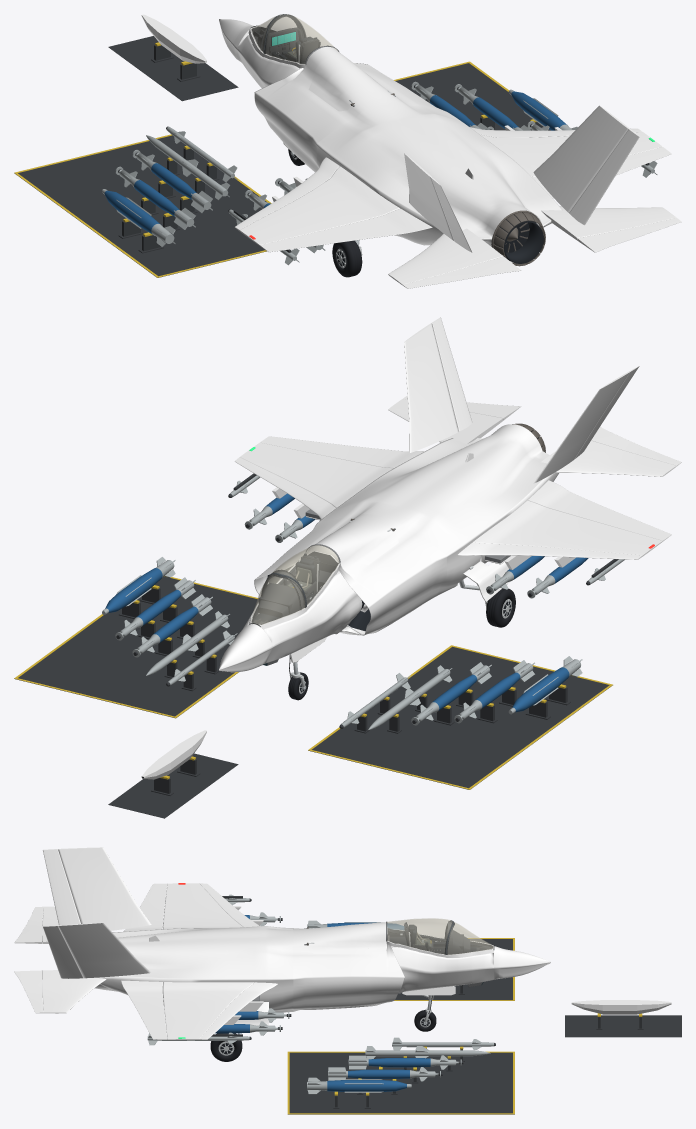
File: f35b-hangar-x.glb
3 renders of one model, top to bottom at view 1: azimuth 30°, elevation 25°; view 2: azimuth 150°, elevation 25°; view 3: azimuth 270°, elevation 25°, orthographic. The views are drawn at different scales.
Parts seen in each view (by area): view 1: Web_Loadout | hangar display stores and stands, Web_Static_Web_Aircraft_F35B_fuselage, Web_Static_Web_Aircraft_F35B_wingL, Web_Airframe | R fixed fin, Web_Static_Web_Rig_L_tail, Web_Static_Web_Rig_R_tail, Web_Static_Web_Rig_Canopy, Web_Airframe | Wing L trailing flaperon, Web_Static_Web_Rig_LiftFan_Door, Web_Static_Web_Rig_Vector_Nozzle, Web_Static_Web_Aircraft_F35B_wingR, Web_Airframe | R rudder (+8 smaller); view 2: Web_Loadout | hangar display stores and stands, Web_Static_Web_Aircraft_F35B_fuselage, Web_Static_Web_Aircraft_F35B_wingL, Web_Airframe | R fixed fin, Web_Static_Web_Aircraft_F35B_wingR, Web_Static_Web_Rig_Canopy, Web_Static_Web_Rig_L_tail, Web_Airframe | Wing L trailing flaperon, Web_Airframe | L fixed fin, Web_Airframe | Wing R trailing flaperon, Web_Loadout | wing stores L, Web_Static_Web_Rig_LiftFan_Door (+8 smaller); view 3: Web_Static_Web_Aircraft_F35B_fuselage, Web_Loadout | hangar display stores and stands, Web_Airframe | L fixed fin, Web_Static_Web_Aircraft_F35B_wingR, Web_Static_Web_Rig_Canopy, Web_Airframe | R fixed fin, Web_Static_Web_Aircraft_F35B_wingL, Web_Static_Web_Rig_R_tail, Web_Static_Web_Rig_LiftFan_Door, Web_Airframe | Wing R trailing flaperon, Web_Loadout | wing stores R, Web_Airframe | L rudder (+8 smaller).
Part boxes in pixels (bbox=[...]): Web_Loadout | hangar display stores and stands: bbox=[14, 14, 577, 277]; Web_Static_Web_Aircraft_F35B_fuselage: bbox=[219, 19, 562, 262]; Web_Static_Web_Aircraft_F35B_wingL: bbox=[239, 166, 399, 245]; Web_Airframe | R fixed fin: bbox=[533, 105, 629, 212]; Web_Static_Web_Rig_L_tail: bbox=[388, 228, 521, 288]; Web_Static_Web_Rig_R_tail: bbox=[541, 206, 681, 252]; Web_Static_Web_Rig_Canopy: bbox=[248, 14, 339, 68]; Web_Airframe | Wing L trailing flaperon: bbox=[260, 208, 432, 252]; Web_Static_Web_Rig_LiftFan_Door: bbox=[308, 56, 397, 111]; Web_Static_Web_Rig_Vector_Nozzle: bbox=[491, 210, 545, 266]; Web_Static_Web_Aircraft_F35B_wingR: bbox=[480, 132, 662, 176]; Web_Airframe | R rudder: bbox=[569, 129, 639, 225]; Web_Loadout | hangar display stores and stands: bbox=[14, 557, 612, 818]; Web_Static_Web_Aircraft_F35B_fuselage: bbox=[219, 424, 558, 672]; Web_Static_Web_Aircraft_F35B_wingL: bbox=[473, 500, 662, 563]; Web_Airframe | R fixed fin: bbox=[404, 323, 459, 453]; Web_Static_Web_Aircraft_F35B_wingR: bbox=[240, 442, 393, 519]; Web_Static_Web_Rig_Canopy: bbox=[249, 544, 340, 629]; Web_Static_Web_Rig_L_tail: bbox=[541, 427, 681, 476]; Web_Airframe | Wing L trailing flaperon: bbox=[528, 480, 671, 541]; Web_Airframe | L fixed fin: bbox=[533, 371, 629, 483]; Web_Airframe | Wing R trailing flaperon: bbox=[260, 436, 424, 467]; Web_Loadout | wing stores L: bbox=[486, 555, 624, 598]; Web_Static_Web_Rig_LiftFan_Door: bbox=[321, 519, 398, 564]; Web_Static_Web_Aircraft_F35B_fuselage: bbox=[94, 922, 550, 1011]; Web_Loadout | hangar display stores and stands: bbox=[287, 920, 681, 1114]; Web_Airframe | L fixed fin: bbox=[58, 847, 151, 930]; Web_Static_Web_Aircraft_F35B_wingR: bbox=[163, 982, 259, 1040]; Web_Static_Web_Rig_Canopy: bbox=[386, 918, 494, 957]; Web_Airframe | R fixed fin: bbox=[58, 923, 151, 978]; Web_Static_Web_Aircraft_F35B_wingL: bbox=[163, 883, 259, 929]; Web_Static_Web_Rig_R_tail: bbox=[14, 970, 106, 1013]; Web_Static_Web_Rig_LiftFan_Door: bbox=[307, 923, 369, 954]; Web_Airframe | Wing R trailing flaperon: bbox=[121, 980, 167, 1039]; Web_Loadout | wing stores R: bbox=[147, 1001, 291, 1045]; Web_Airframe | L rudder: bbox=[43, 849, 80, 925].
Bounding box in the file's own units: 12.1 × 4.67 × 19.4.
